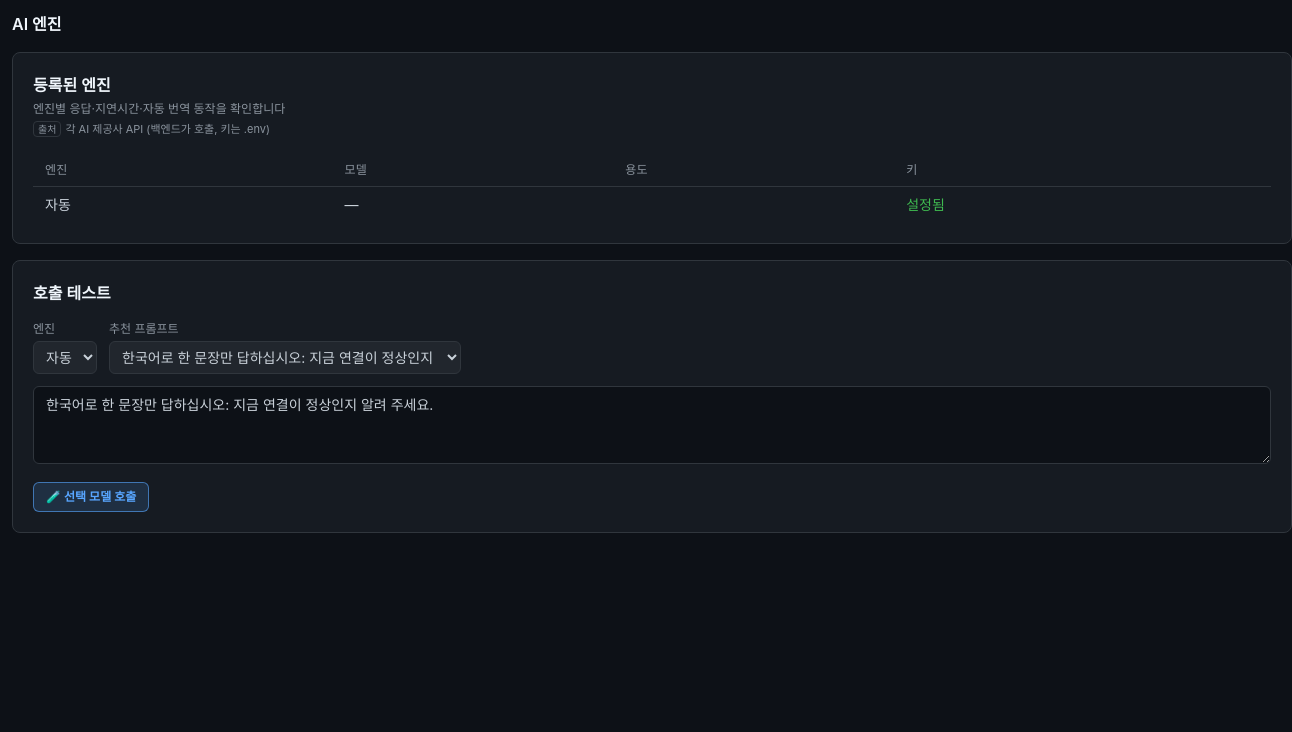
Test: 🤖 AI 엔진 테스트 › 실패하면 서버가 준 문구를 결과 자리에 보여 준다
Click the button "🧪 선택 모델 호출" at (91, 496), box x1=33 y1=482 x2=149 y2=512
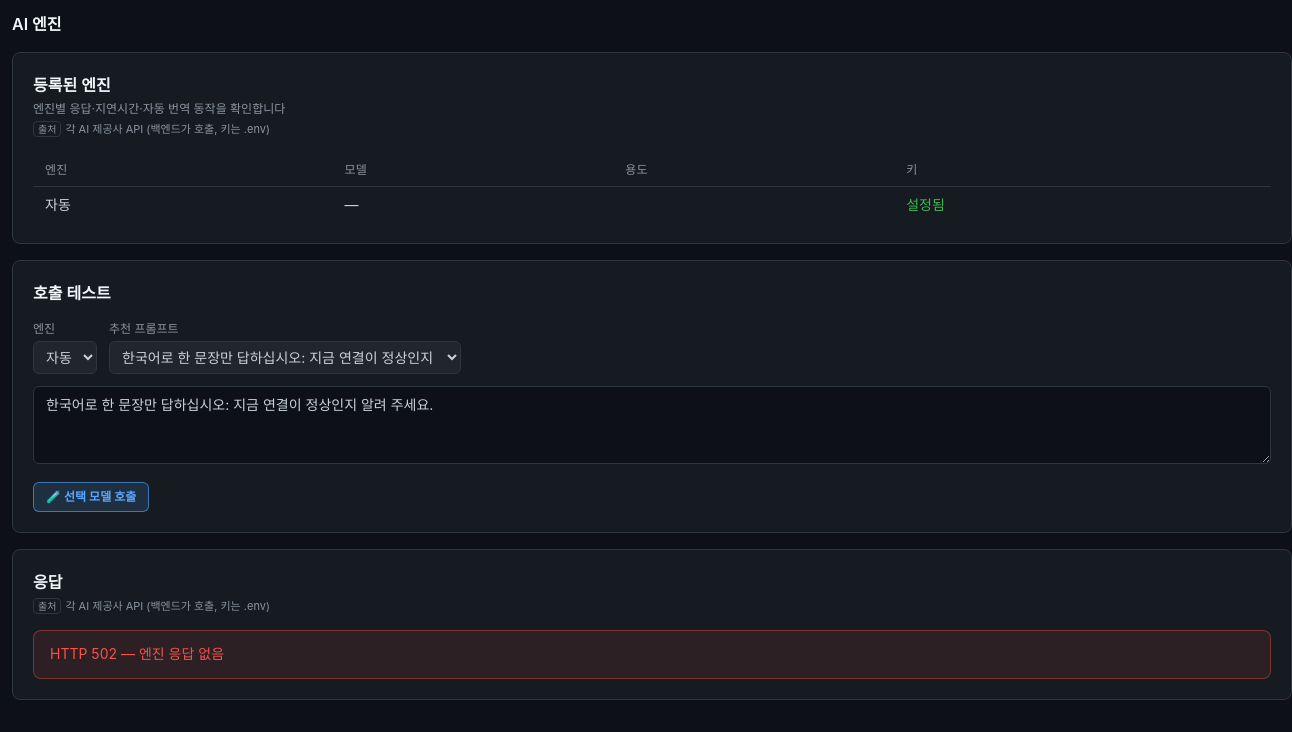
Result: the text "HTTP 502 — 엔진 응답 없음" is shown at x1=33 y1=630 x2=1271 y2=679
